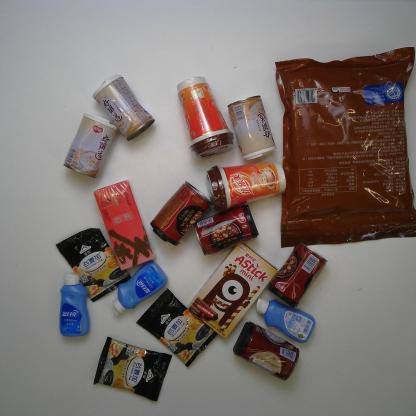Canned Food: (265, 239, 329, 311), (149, 179, 213, 248), (92, 73, 153, 145), (230, 321, 300, 383), (62, 109, 118, 179), (193, 202, 261, 257), (226, 93, 278, 163)
Dessert: (186, 239, 278, 340)
Dried Food: (272, 44, 416, 251)
Instant Drink: (135, 286, 220, 370), (52, 225, 134, 303), (88, 178, 155, 272), (91, 334, 174, 404), (174, 73, 235, 161), (204, 159, 288, 214)
Personal Hygiene: (112, 257, 170, 318), (253, 294, 317, 345), (57, 271, 91, 339)
